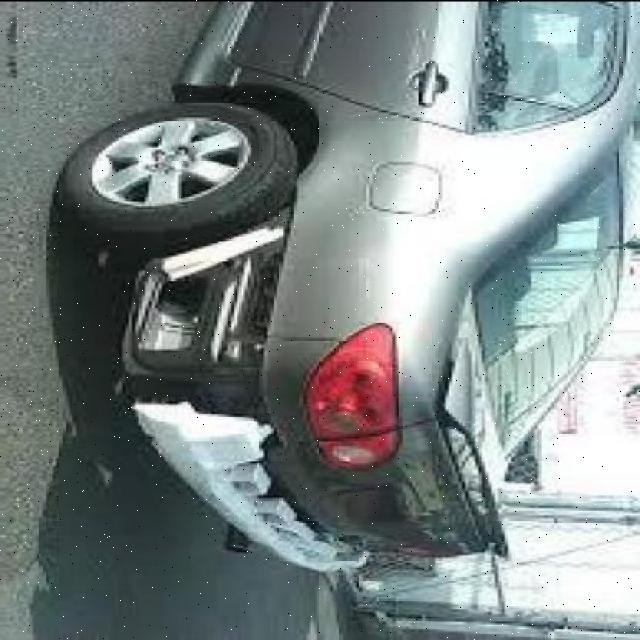damage: (115, 182, 371, 583)
